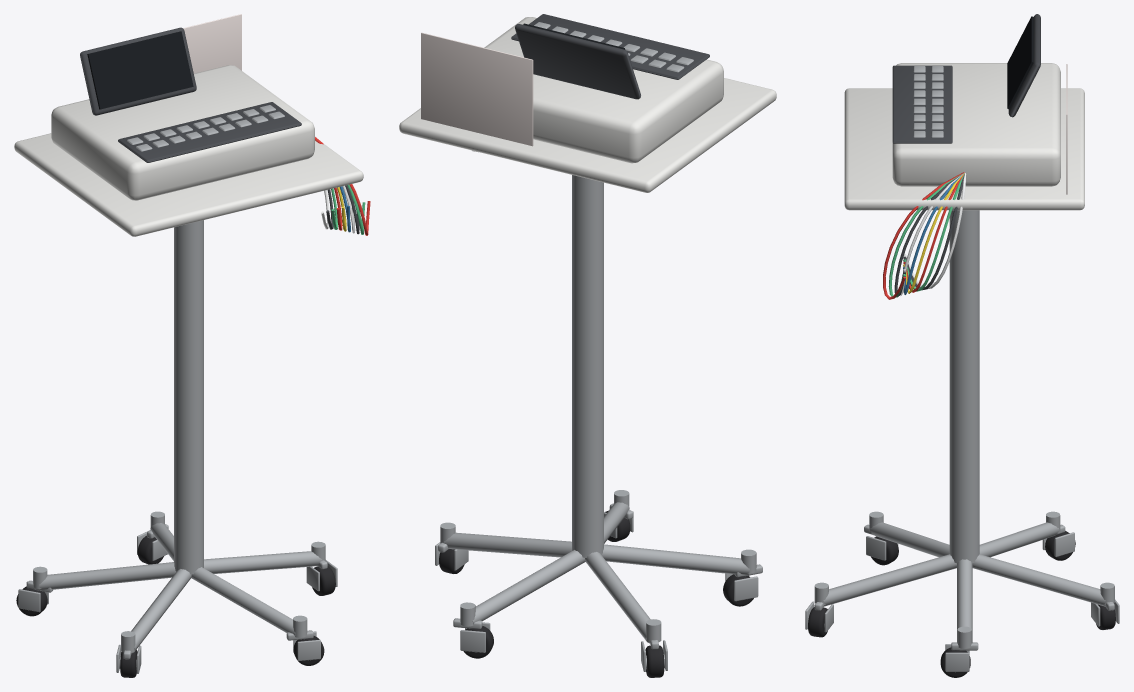
Rendered from ecg.glb.
3 views of the same model, side by side, from view 1: azimuth 30°, elevation 25°; view 2: azimuth 150°, elevation 25°; view 3: azimuth 270°, elevation 25° (orthographic). The views are drawn at different scales.
Visible parts, largest first — view 1: ecg, Ecran; view 2: ecg; view 3: ecg, Ecran.
Boxes of the visible parts, x1,y1,x2,y2 form: ecg: (14,14,370,677); Ecran: (87,31,193,109); ecg: (399,14,776,677); ecg: (805,14,1119,677); Ecran: (1007,16,1033,109).
Bounding box in the file's own units: 0.5282 × 1.04 × 0.5232.
